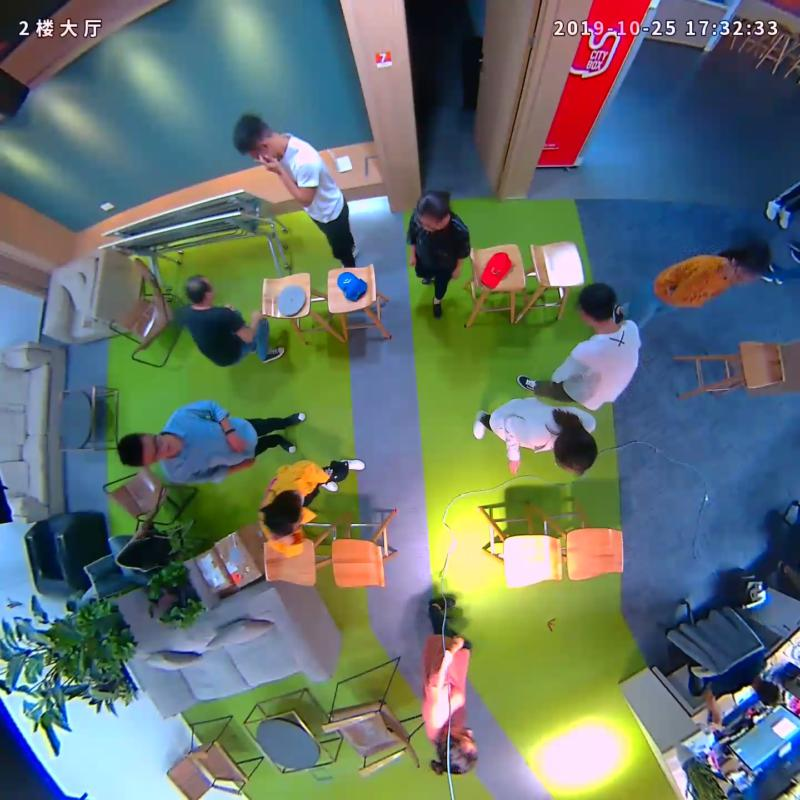head: (229, 110, 288, 170), (572, 274, 628, 334), (719, 236, 776, 289), (549, 424, 603, 479), (112, 426, 178, 471), (429, 730, 482, 786), (259, 488, 315, 531), (408, 189, 461, 233), (176, 269, 217, 306)
